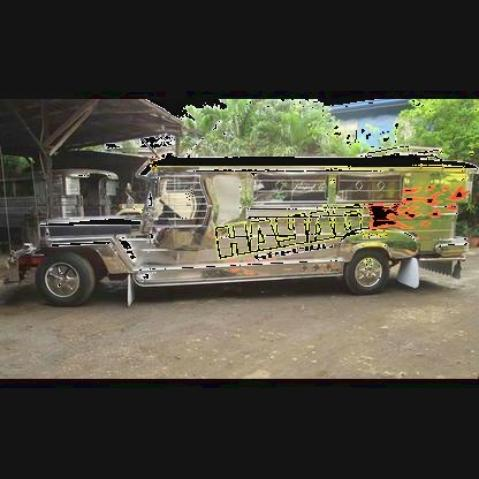jeepney: (15, 142, 475, 317)
